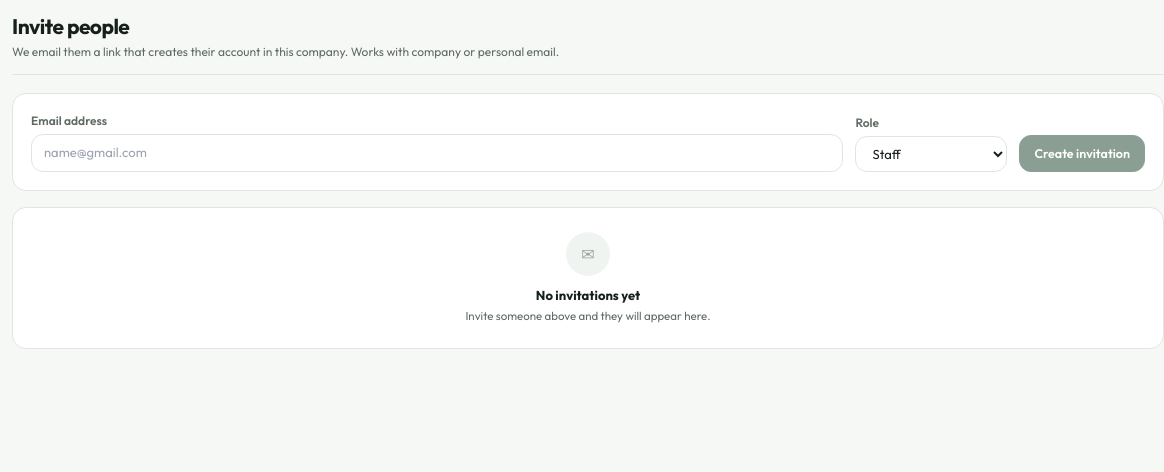
InvitePeople › emails the invitation straight away and says so
Check: the text "No invitations yet" is shown, box [536,286,640,305]
Type "new@gmail.com" into the field with placeholder "name@gmail.com". click: (437, 153)
box: [31,134,843,172]
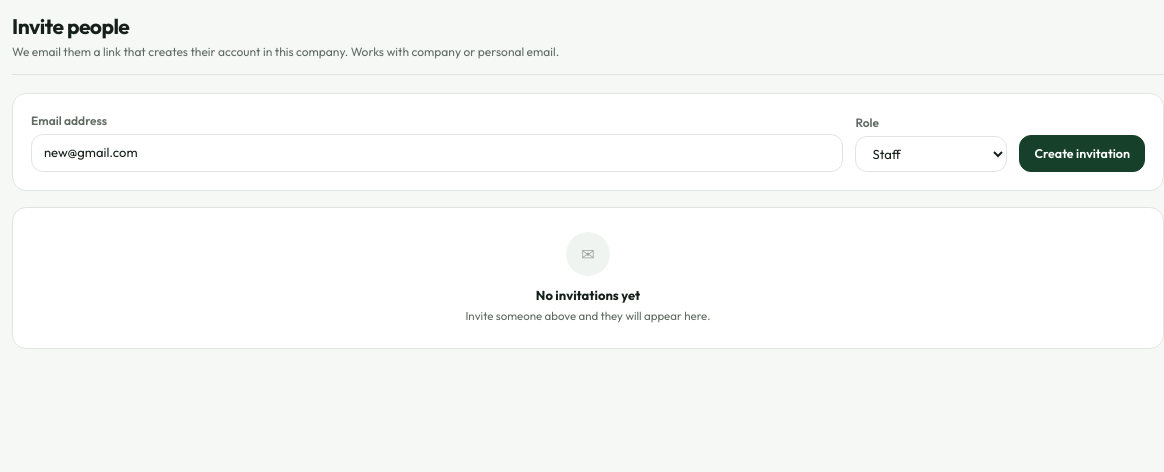
Click the button "Create invitation". click: (1082, 153)
box: [1019,135,1145,172]
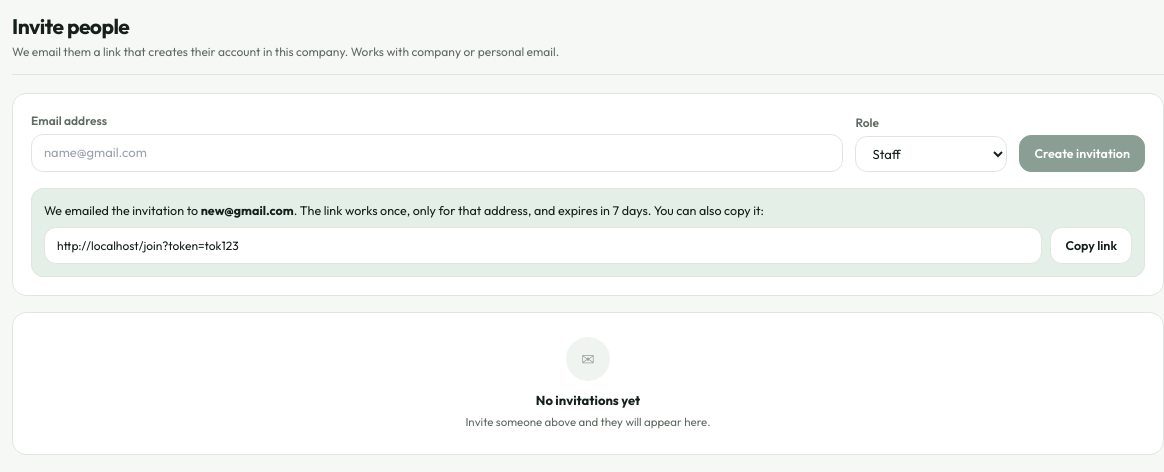
Check: the text "We emailed the invitation to" is shown, box [44,202,201,218]
